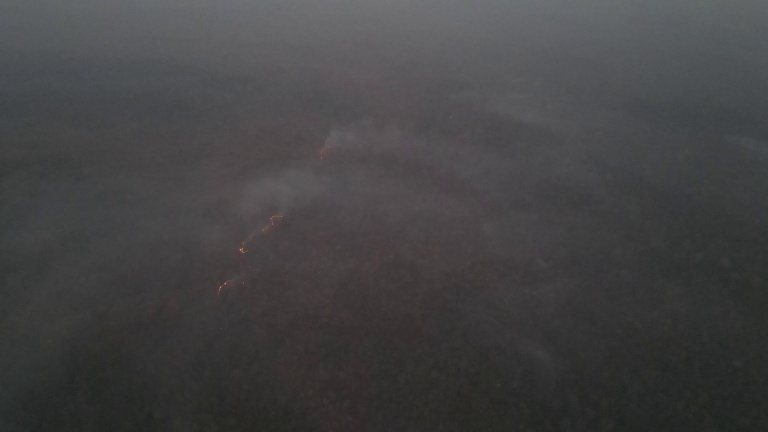fire: (238, 210, 287, 256), (216, 276, 231, 294), (315, 144, 328, 161)
smoke: (237, 169, 327, 214), (328, 122, 370, 148)
